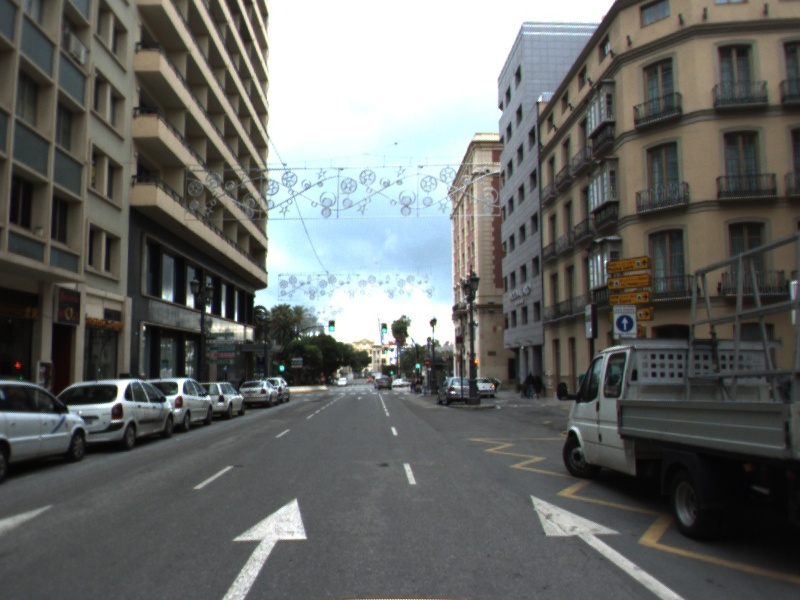STRAIGHT: (525, 489, 688, 600), (216, 494, 310, 600)
